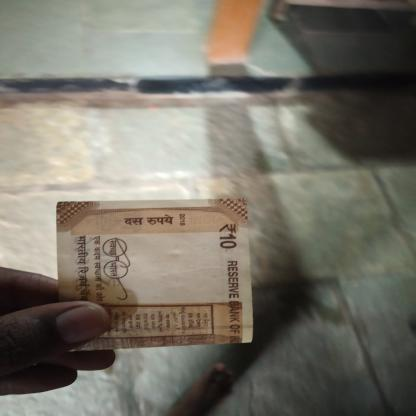New10Back: (52, 202, 246, 343)
